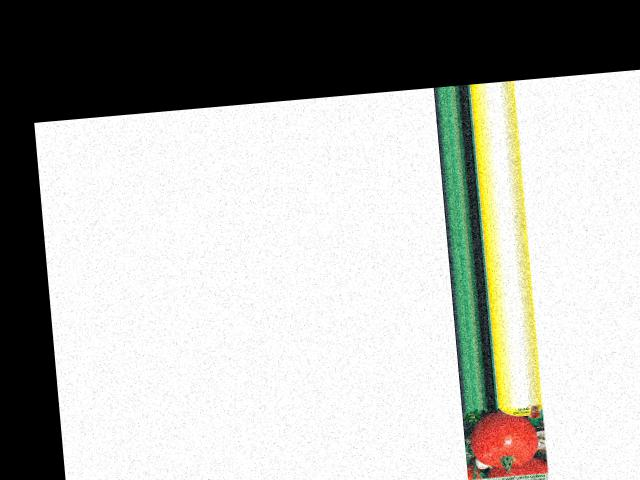tomato: (468, 407, 539, 469)
